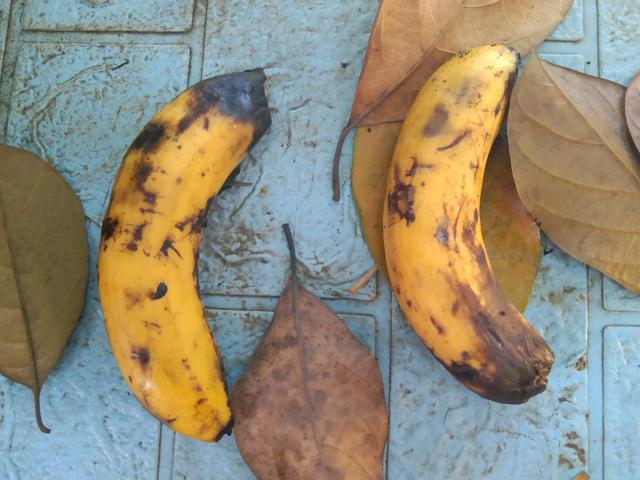overripe: (75, 51, 288, 441), (363, 30, 567, 401)
